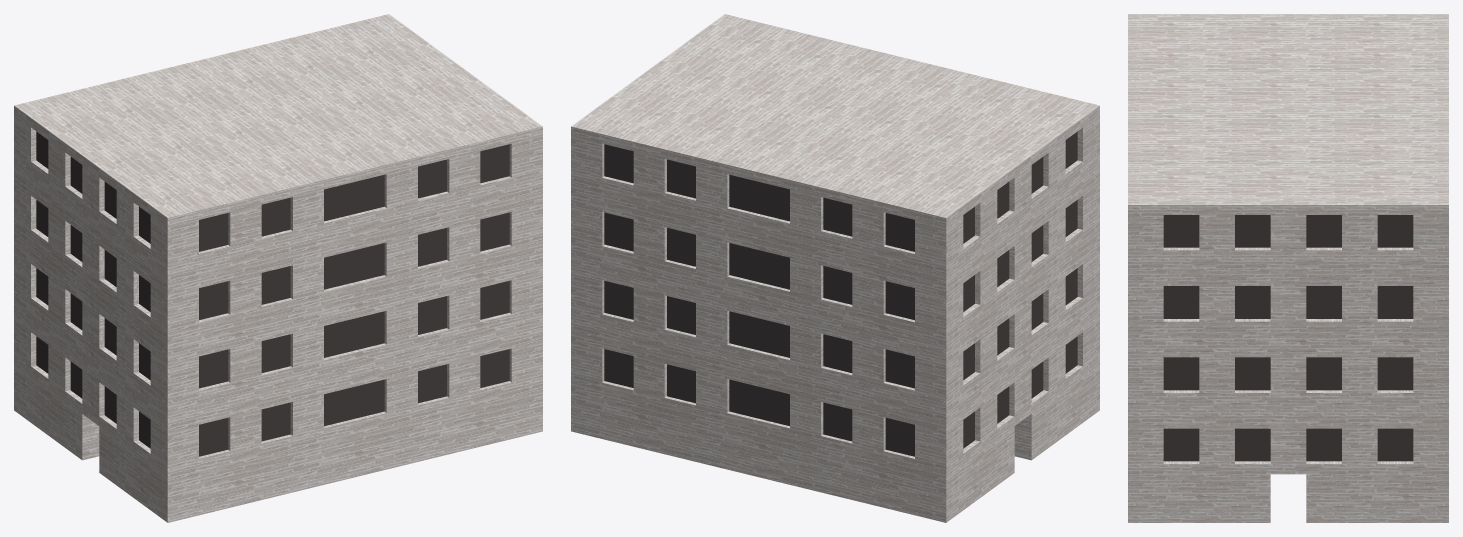
File: Building_BigLateral.glb
3 renders of one model, left to right at view 1: azimuth 30°, elevation 25°; view 2: azimuth 150°, elevation 25°; view 3: azimuth 270°, elevation 25°, orthographic. The views are drawn at different scales.
Parts seen in each view (by area): view 1: BigLateral; view 2: BigLateral; view 3: BigLateral.
Part boxes in pixels (x1=…): BigLateral: x1=14, y1=14, x2=542, y2=522; BigLateral: x1=571, y1=14, x2=1099, y2=522; BigLateral: x1=1128, y1=14, x2=1448, y2=522.
Bounding box in the file's own units: 51.11 × 39.7 × 36.29.
3 materials, 1 textured.
